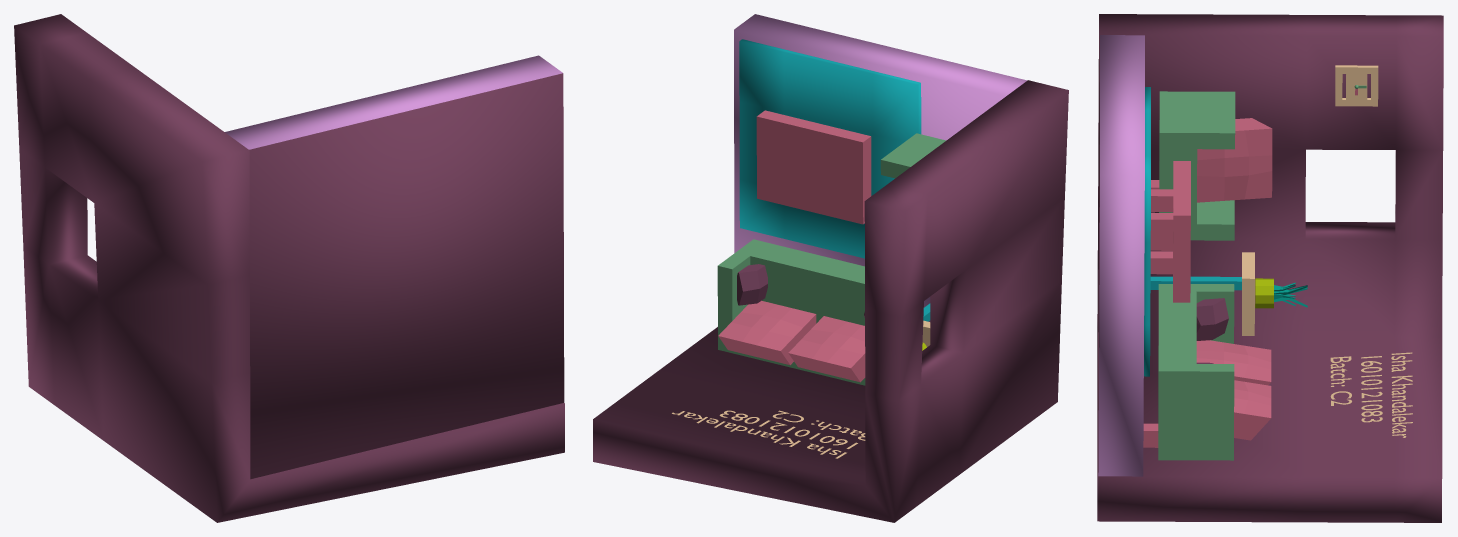
File: room2.glb
The picture shows the model from 3 angles, left to right: view 1: azimuth 30°, elevation 25°; view 2: azimuth 150°, elevation 25°; view 3: azimuth 270°, elevation 25°; orthographic projection. The views are drawn at different scales.
Parts seen in each view (by area): view 1: zemin, duvar; view 2: duvar, halı, zemin, Plane.006, çiftli koltuk, Cube.004, Cube.003, Text, tekli koltuk, Cube.006; view 3: duvar, zemin, çiftli koltuk, tekli koltuk, Cube.007, Plane.006, Cube.003, Text, Cube.004, halı, Plane, Cube.005 (+3 smaller).
Part boxes in pixels (box(x1,y1,x2,y2)): zemin: box(225, 55, 564, 479); duvar: box(14, 14, 564, 522); duvar: box(593, 80, 1068, 522); halı: box(739, 39, 921, 258); zemin: box(734, 14, 1027, 321); Plane.006: box(756, 110, 871, 224); çiftli koltuk: box(717, 239, 865, 385); Cube.004: box(718, 300, 816, 365); Cube.003: box(788, 316, 865, 382); Text: box(672, 410, 865, 458); tekli koltuk: box(880, 133, 945, 178); Cube.006: box(737, 264, 767, 305); duvar: box(1097, 14, 1443, 522); zemin: box(1098, 35, 1144, 476); çiftli koltuk: box(1158, 284, 1234, 460); tekli koltuk: box(1159, 91, 1235, 240); Cube.007: box(1197, 118, 1272, 202); Plane.006: box(1150, 88, 1357, 302); Cube.003: box(1196, 340, 1271, 385); Text: box(1330, 352, 1412, 437); Cube.004: box(1234, 380, 1271, 440); halı: box(1144, 87, 1150, 376); Plane: box(1335, 65, 1378, 106); Cube.005: box(1196, 298, 1228, 340).
Size of the model in its own units: 3.51 by 3.52 by 3.18.
